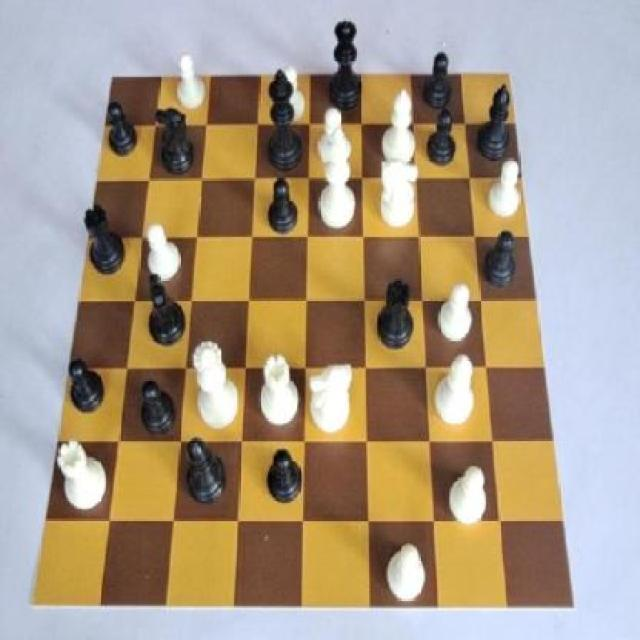bishop: (469, 75, 522, 164), (182, 438, 230, 518)
black-bishop: (263, 65, 310, 177)
black-king: (137, 275, 196, 358), (151, 97, 201, 186)
black-knight: (63, 346, 112, 424), (260, 443, 309, 518), (100, 94, 146, 166), (260, 170, 301, 248), (475, 224, 521, 292), (420, 103, 462, 172), (417, 44, 456, 114), (134, 374, 176, 438)
black-pawn: (324, 12, 368, 120)
black-queen: (80, 194, 131, 280), (372, 270, 416, 358)
black-rook: (432, 342, 482, 441), (372, 81, 418, 176)
white-bishop: (312, 112, 361, 237)
white-king: (305, 358, 357, 438), (377, 152, 423, 234)
white-knight: (380, 528, 429, 612), (448, 457, 499, 534), (136, 214, 186, 288), (481, 154, 524, 231), (310, 99, 354, 172), (168, 44, 215, 112), (435, 274, 480, 343), (271, 54, 310, 128)
white-pawn: (189, 332, 245, 440)
white-queen: (51, 432, 109, 522), (255, 349, 304, 439)
